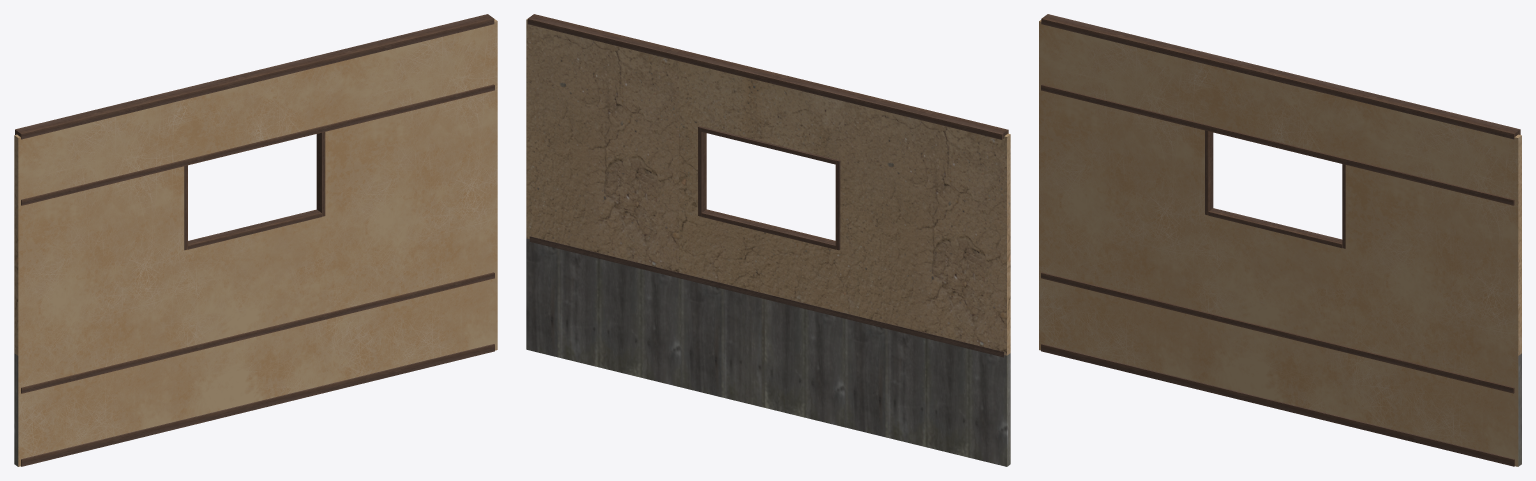
File: jov_outwall02_2t.mado_a1.fbx
3 renders of one model, left to right at view 1: azimuth 30°, elevation 25°; view 2: azimuth 150°, elevation 25°; view 3: azimuth 330°, elevation 25°, orthographic.
Parts seen in each view (by area): view 1: jov_outwall02_2t.mado_a1; view 2: jov_outwall02_2t.mado_a1; view 3: jov_outwall02_2t.mado_a1.
Part boxes in pixels (x1=…): jov_outwall02_2t.mado_a1: x1=14, y1=14, x2=497, y2=466; jov_outwall02_2t.mado_a1: x1=526, y1=14, x2=1010, y2=466; jov_outwall02_2t.mado_a1: x1=1039, y1=14, x2=1521, y2=466.
Bounding box in the file's own units: 440 × 292 × 11.05.
